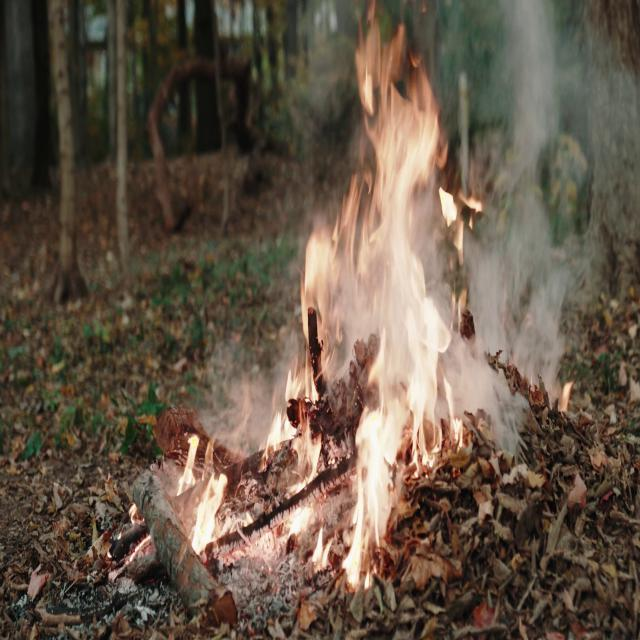Fire: (255, 37, 490, 580), (168, 405, 230, 555)
Smoke: (473, 0, 640, 410)
